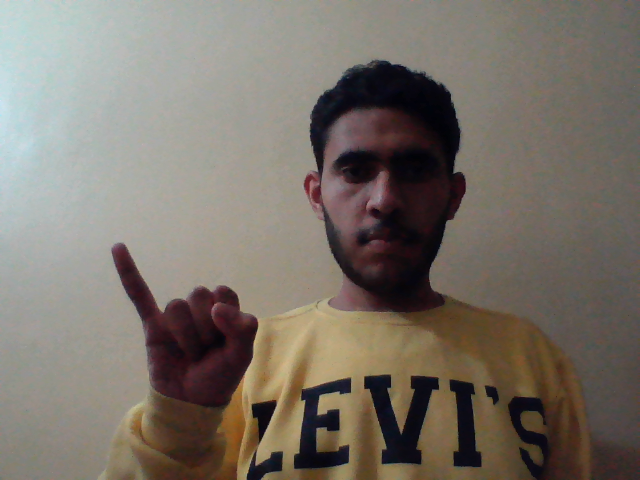I: (103, 234, 260, 421)
